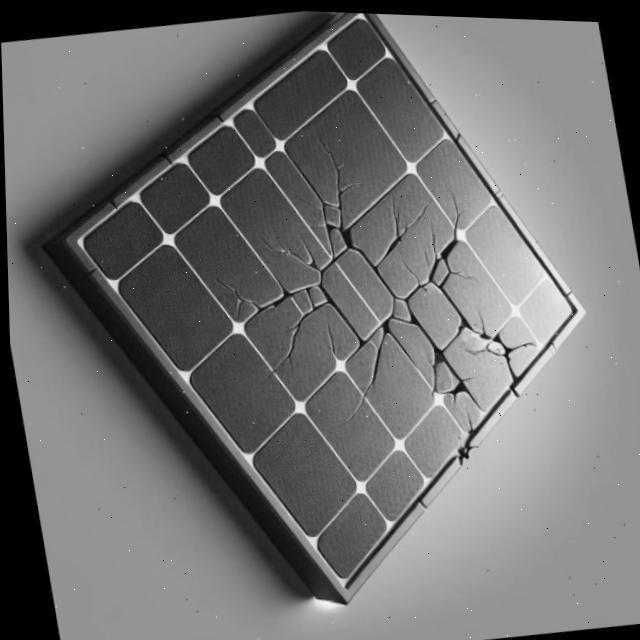Anomaly Solar Panel: (68, 10, 640, 584)
Structural Damage: (337, 172, 434, 313), (310, 247, 387, 360), (209, 235, 304, 324), (253, 283, 329, 389), (335, 328, 395, 427), (313, 136, 367, 224), (256, 216, 327, 268), (418, 332, 467, 394), (493, 325, 538, 377), (425, 229, 466, 285), (383, 250, 429, 297), (393, 297, 441, 341), (444, 177, 471, 234), (387, 325, 420, 365), (324, 215, 356, 255), (465, 323, 508, 352), (451, 260, 479, 277), (376, 305, 394, 330), (325, 318, 337, 351), (454, 310, 470, 326), (430, 217, 436, 250)
